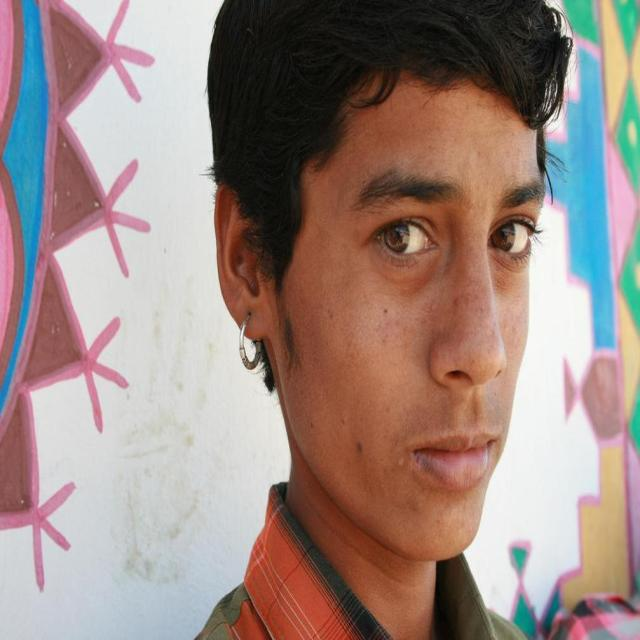Eyebags: (376, 249, 440, 298), (489, 252, 523, 300)
